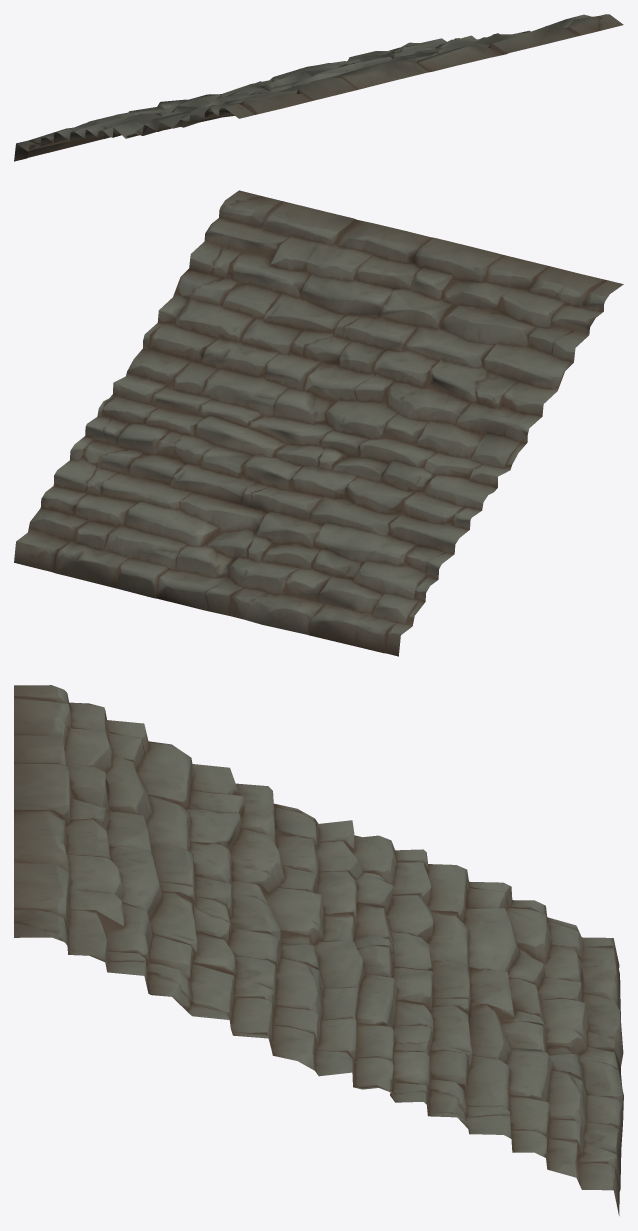
File: SM_FW01_Ruins_Int_Stairs_4x2x4_01.fbx
3 renders of one model, top to bottom at view 1: azimuth 30°, elevation 25°; view 2: azimuth 150°, elevation 25°; view 3: azimuth 270°, elevation 25°, orthographic. The views are drawn at different scales.
Visible parts, largest first — view 1: SM_FW01_Ruins_Int_Stairs_4x2x4_01_LOD0; view 2: SM_FW01_Ruins_Int_Stairs_4x2x4_01_LOD0; view 3: SM_FW01_Ruins_Int_Stairs_4x2x4_01_LOD0.
Boxes of the visible parts, x1=… form: SM_FW01_Ruins_Int_Stairs_4x2x4_01_LOD0: x1=14, y1=14, x2=623, y2=161; SM_FW01_Ruins_Int_Stairs_4x2x4_01_LOD0: x1=14, y1=190, x2=623, y2=656; SM_FW01_Ruins_Int_Stairs_4x2x4_01_LOD0: x1=14, y1=685, x2=623, y2=1215.
Size of what is drawn, in the model's own units: 4 by 2.09 by 4.09.
